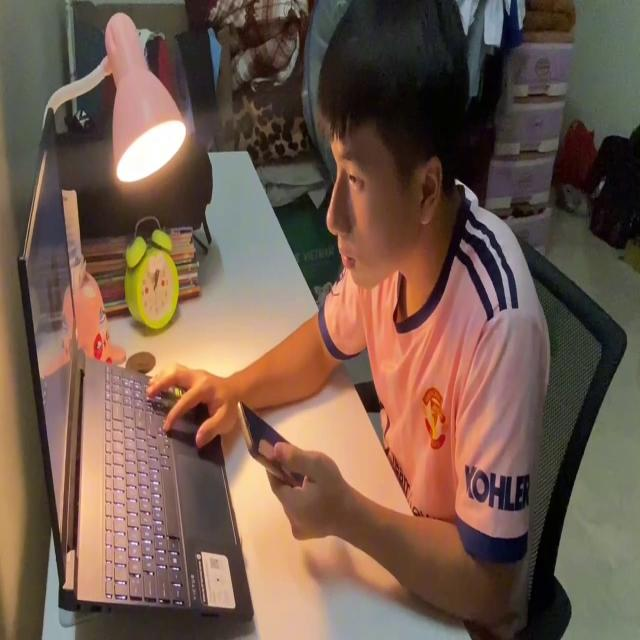laptop: (17, 98, 260, 628)
phone: (235, 394, 307, 492)
student: (149, 2, 551, 638)
